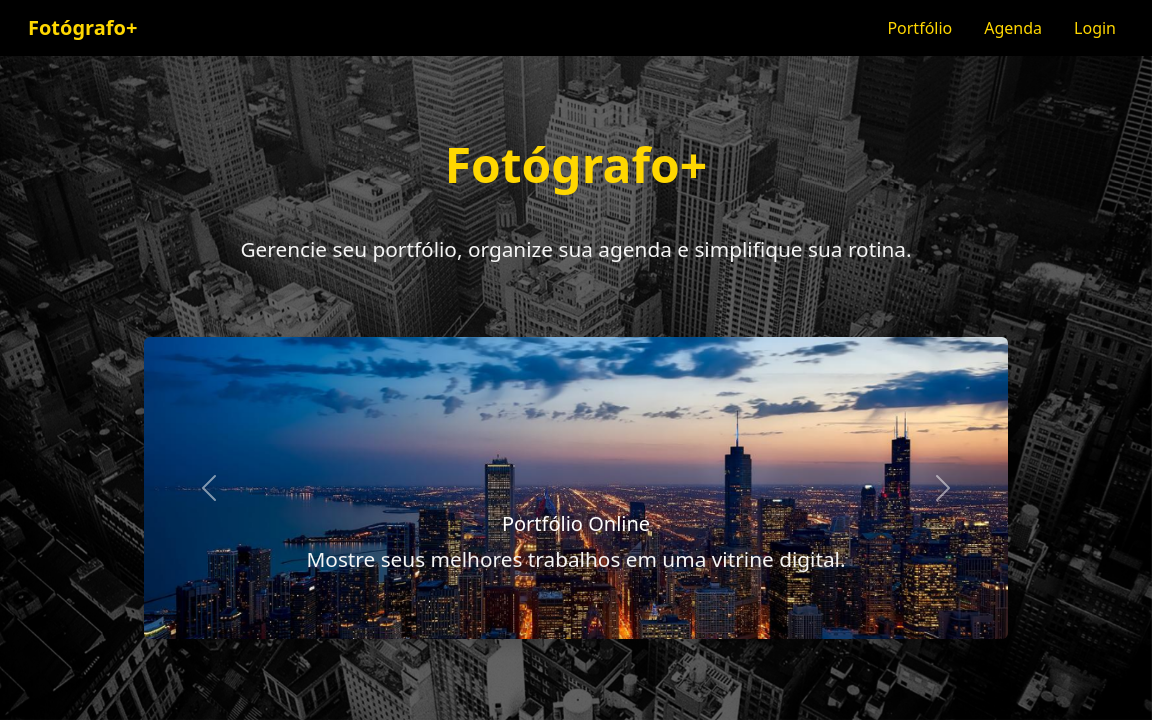
Test: Navegação deslogado › bloqueia acesso a /schedule e exibe aviso de login obrigatório
Click the link to "/schedule" at (1013, 28), box [984,17,1042,39]
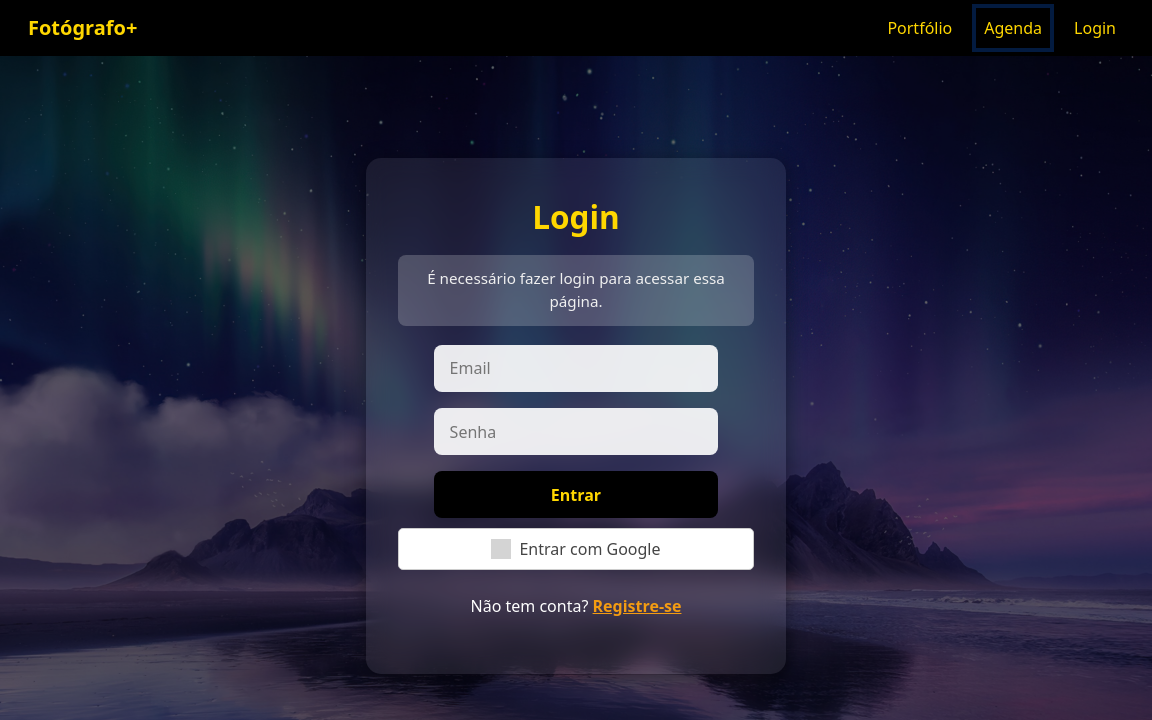
Result: the text "É necessário fazer login para acessar essa página." is shown at [398,255,754,326]
